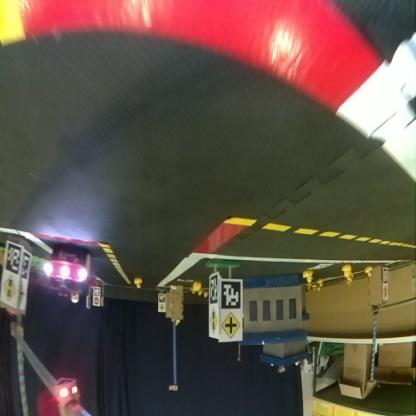Duckie: (302, 272, 312, 284), (342, 265, 351, 278), (134, 279, 142, 289), (364, 267, 372, 277), (70, 294, 78, 304), (343, 273, 351, 281), (192, 284, 200, 292)
Duckiebot: (43, 246, 91, 294)
Intersection sign: (220, 312, 240, 340)
QR code: (221, 282, 241, 310), (5, 244, 21, 274), (20, 250, 29, 274), (209, 276, 216, 304)
Signal sign: (3, 274, 18, 308), (208, 306, 218, 336)
Traffic light: (54, 379, 80, 410)
